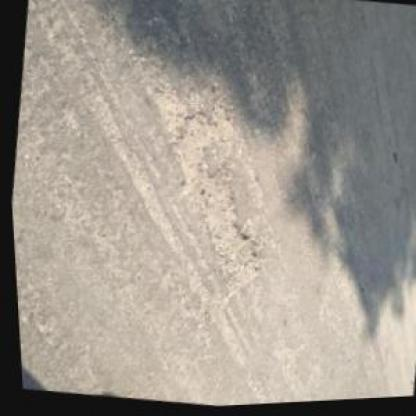pothole: (124, 78, 284, 302)
